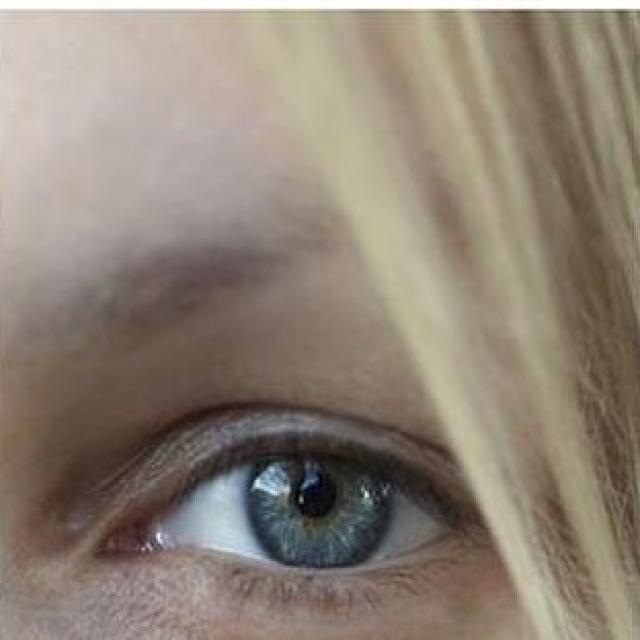Normal: (74, 379, 501, 614)
